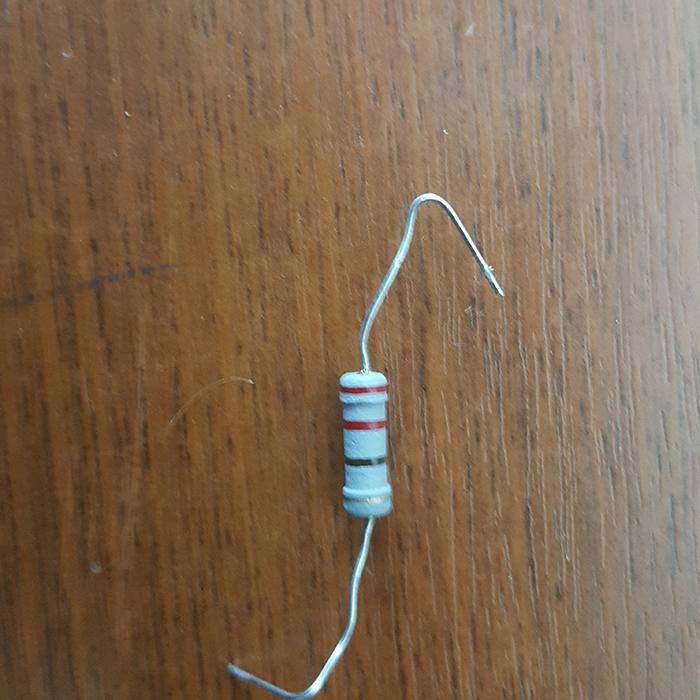resistor: (338, 369, 393, 518)
